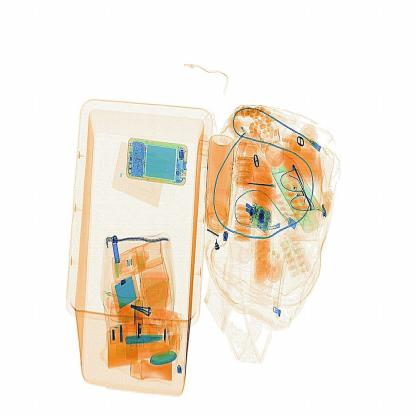wrench: (242, 177, 284, 194)
